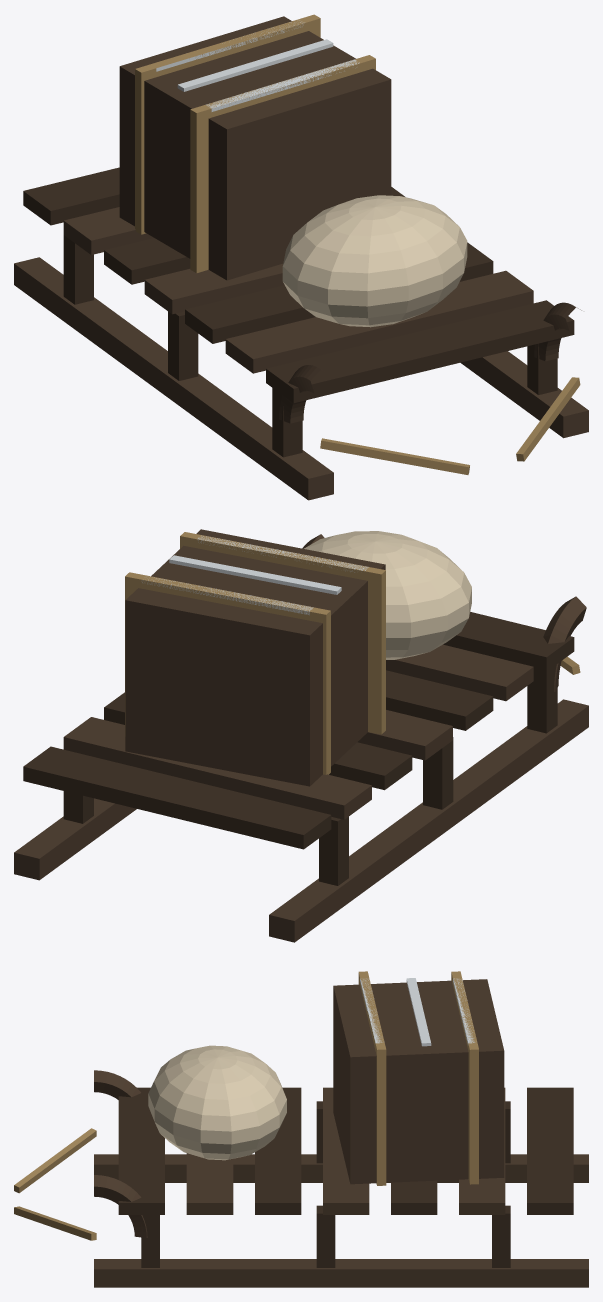
File: prop.dragonspine.supply-sled.glb
The picture shows the model from 3 angles, top to bottom: view 1: azimuth 30°, elevation 25°; view 2: azimuth 150°, elevation 25°; view 3: azimuth 270°, elevation 25°; orthographic projection. The views are drawn at different scales.
Parts seen in each view (by area): view 1: Body_Wood, Body_WoodDark, Body_Canvas, Body_Rope, Body_Snow; view 2: Body_Wood, Body_WoodDark, Body_Rope, Body_Canvas, Body_Snow; view 3: Body_Wood, Body_WoodDark, Body_Canvas, Body_Rope, Body_Snow.
Part boxes in pixels (x1,y1,x2,y2): Body_Wood: [14, 16, 588, 500]; Body_WoodDark: [23, 167, 574, 457]; Body_Canvas: [282, 195, 467, 327]; Body_Rope: [135, 14, 580, 474]; Body_Snow: [156, 20, 359, 111]; Body_Wood: [14, 529, 588, 942]; Body_WoodDark: [23, 612, 574, 885]; Body_Rope: [125, 532, 580, 774]; Body_Canvas: [304, 531, 471, 659]; Body_Snow: [141, 535, 368, 615]; Body_Wood: [94, 979, 588, 1287]; Body_WoodDark: [118, 1087, 573, 1267]; Body_Canvas: [148, 1045, 286, 1160]; Body_Rope: [14, 971, 478, 1240]; Body_Snow: [360, 978, 474, 1046].
Bounding box in the file's own units: 0.9 × 0.8 × 1.9.
